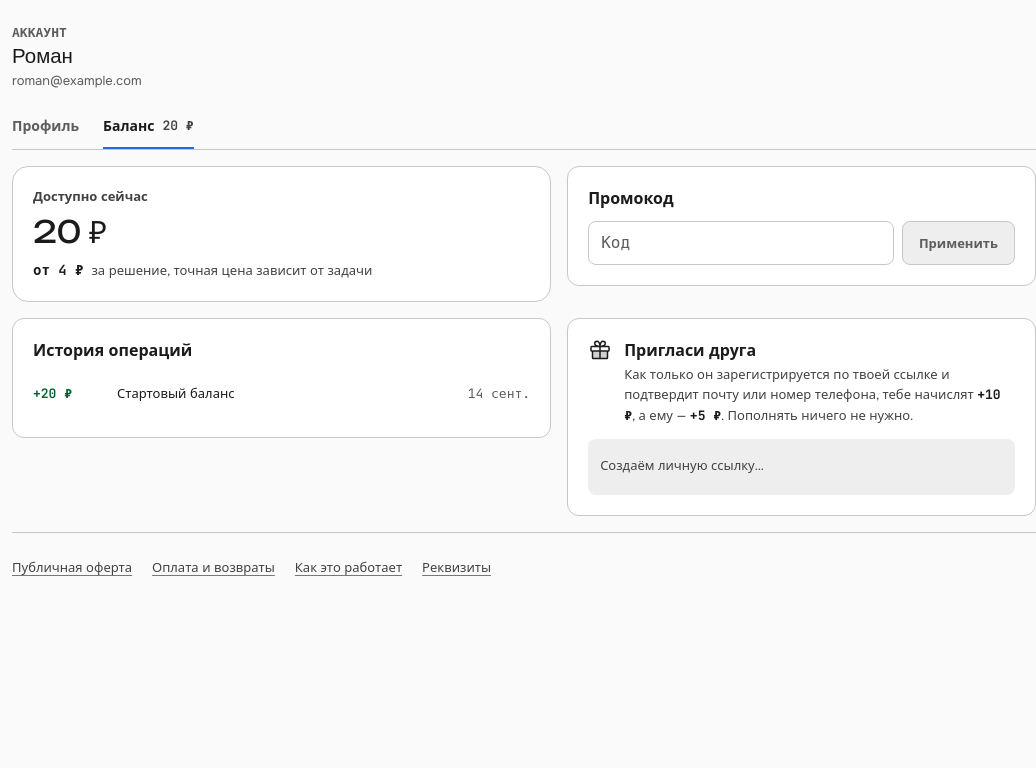
Test: BalancePage › still credits on an { ok: true } answer
Type "START20" into the field named "Промокод" at (741, 243), box [588,221,894,265]
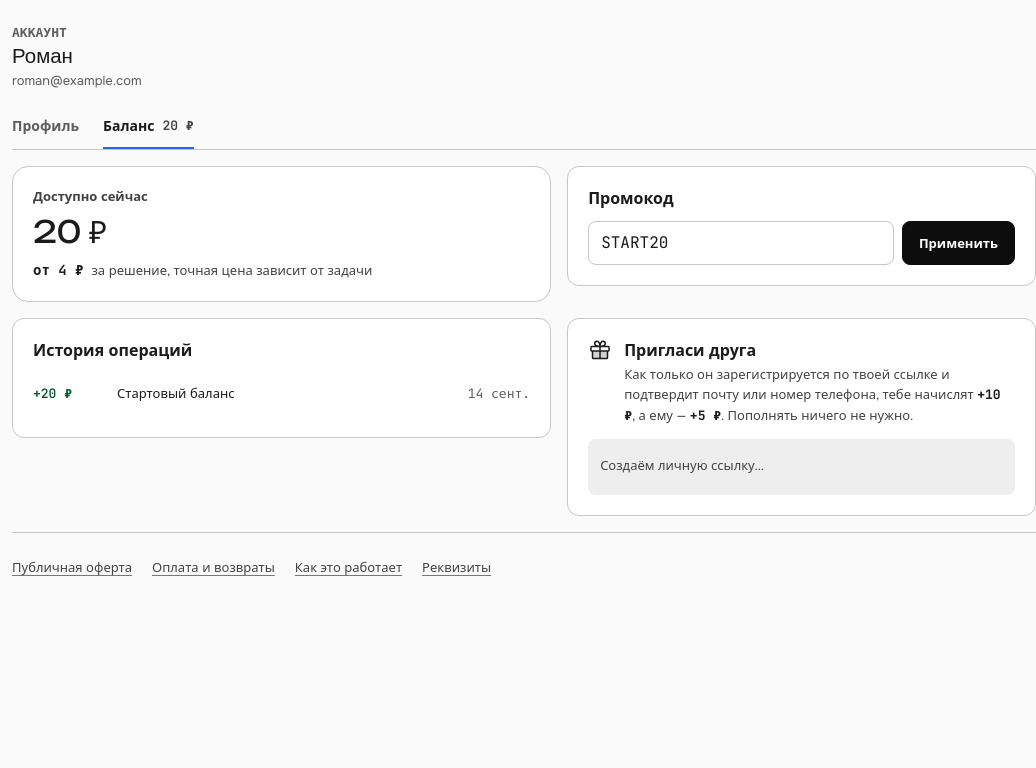
Click the button "Применить" at (958, 243), box [902,221,1015,265]
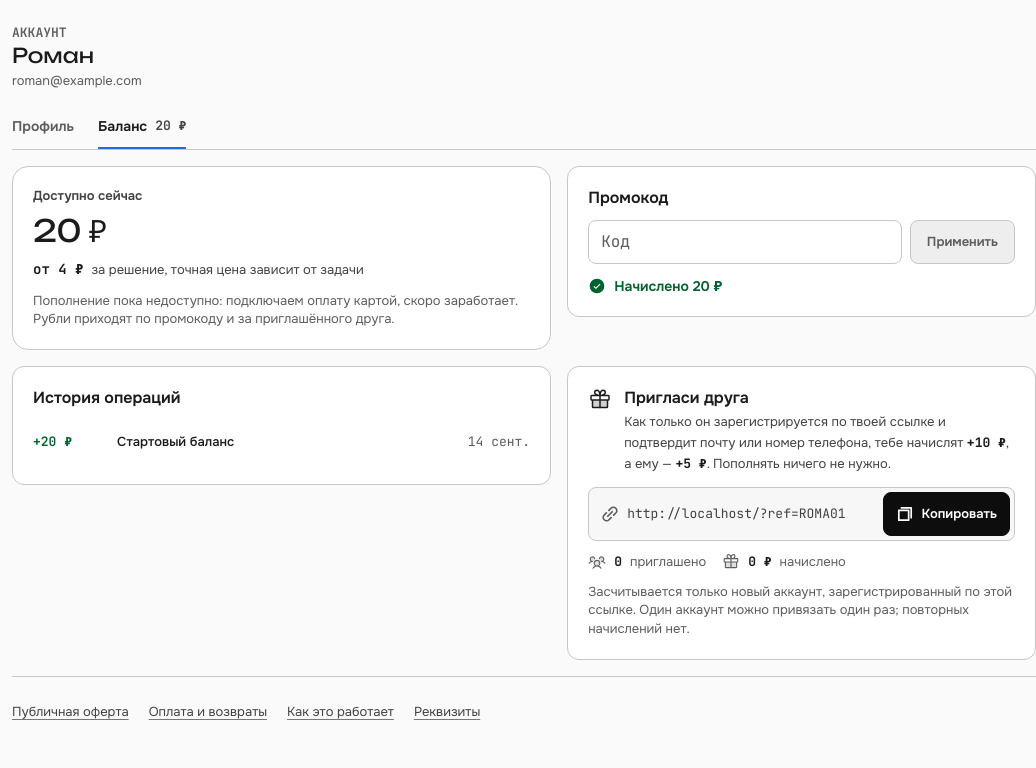
expect the text "Начислено 20 ₽" is shown: met, box [588,277,722,295]
